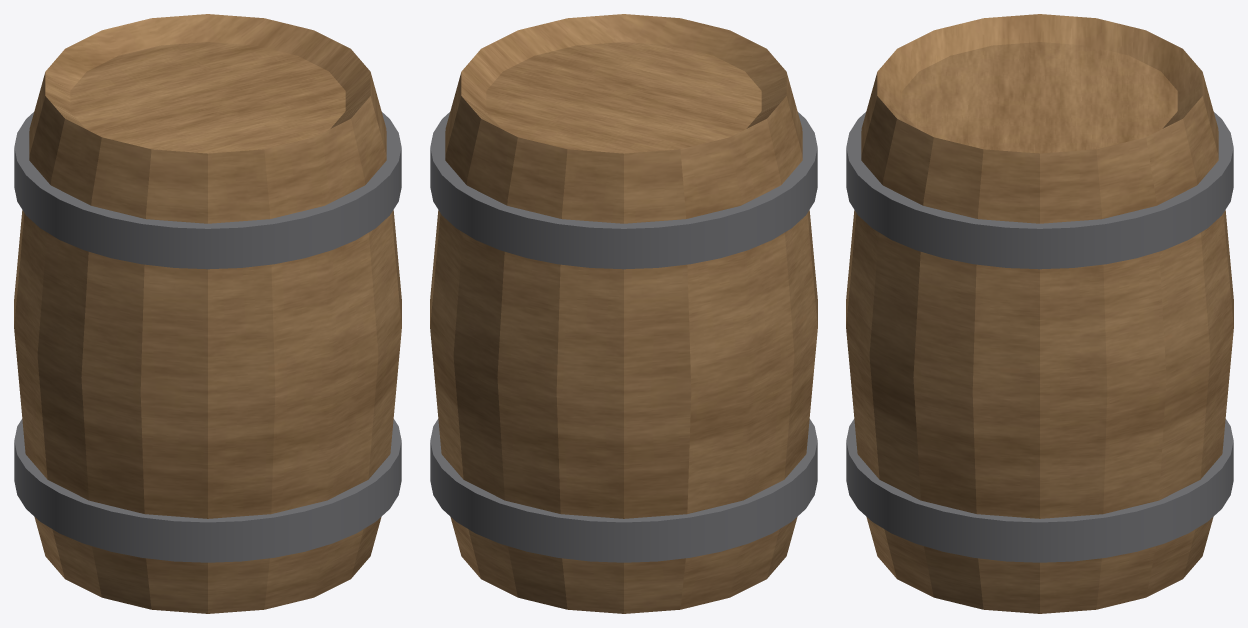
File: Barrel.glb
3 views of the same model, side by side, from view 1: azimuth 30°, elevation 25°; view 2: azimuth 150°, elevation 25°; view 3: azimuth 270°, elevation 25° (orthographic).
Parts seen in each view (by area): view 1: Barrel; view 2: Barrel; view 3: Barrel.
Boxes of the visible parts, left/top/right/bottom form: Barrel: left=14, top=14, right=401, bottom=613; Barrel: left=430, top=14, right=817, bottom=613; Barrel: left=846, top=14, right=1233, bottom=613.
Size of the model in its own units: 0.62 by 0.8 by 0.6106.
Materials: 2 (1 with a texture image).
